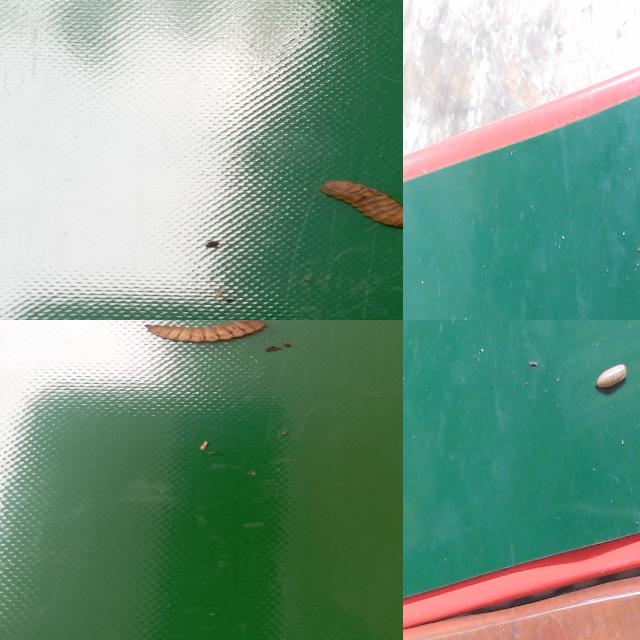Maggot: (321, 181, 403, 229), (146, 320, 268, 346), (593, 363, 629, 398)
